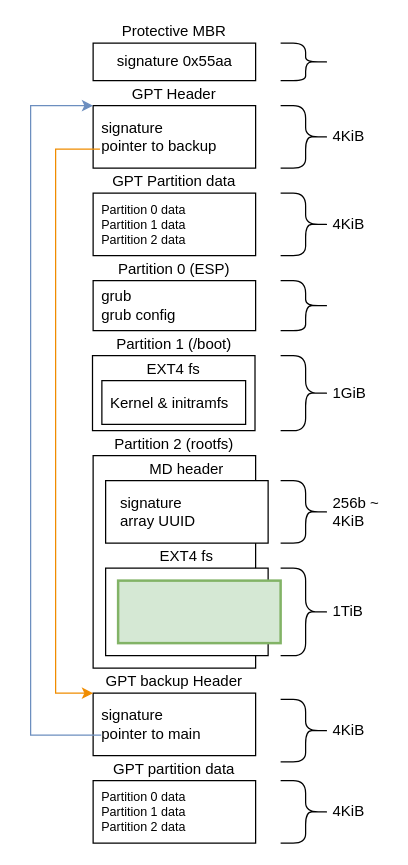
Image size: 408x865. Some labels were removed from this diagram. Here are the shapes that lost their labels. From the top down, the centre of each, then its label:
At pixel 305 61: "512b".
At pixel 305 305: "10MiB".
At pixel 198 611: "actual data".
